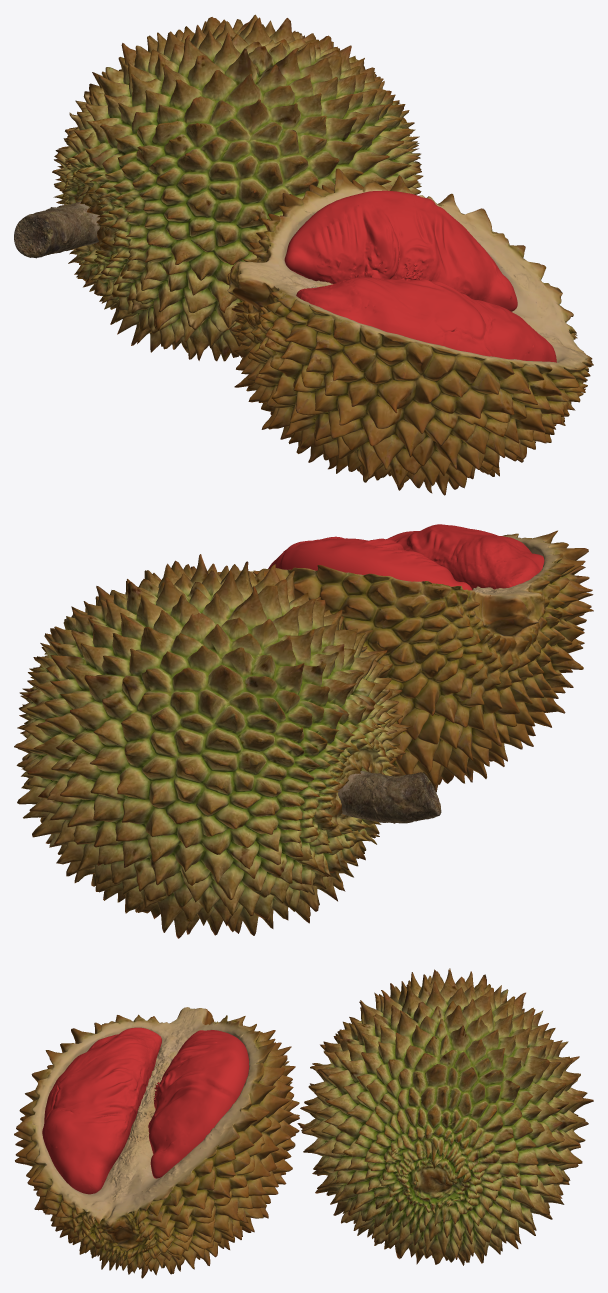
The model's file is durian-compressed.glb.
The picture shows the model from 3 angles, top to bottom: view 1: azimuth 30°, elevation 25°; view 2: azimuth 150°, elevation 25°; view 3: azimuth 270°, elevation 25°; orthographic projection. The views are drawn at different scales.
Visible parts, largest first — view 1: AM130_019_003, AM130_019_001, AM130_019_002, AM130_019_004; view 2: AM130_019_003, AM130_019_001, AM130_019_002, AM130_019_004; view 3: AM130_019_003, AM130_019_001, AM130_019_002.
Part boxes in pixels (left/top/right/bottom): AM130_019_003: left=52, top=14, right=423, bottom=361; AM130_019_001: left=227, top=168, right=593, bottom=495; AM130_019_002: left=284, top=190, right=556, bottom=362; AM130_019_004: left=14, top=201, right=100, bottom=258; AM130_019_003: left=14, top=554, right=412, bottom=938; AM130_019_001: left=217, top=530, right=593, bottom=792; AM130_019_002: left=268, top=524, right=544, bottom=590; AM130_019_004: left=338, top=770, right=441, bottom=823; AM130_019_003: left=297, top=968, right=593, bottom=1265; AM130_019_001: left=14, top=1007, right=299, bottom=1278; AM130_019_002: left=42, top=1027, right=249, bottom=1194.
Size of the model in its own units: 459 by 375 by 728.
Materials: 4 (3 with a texture image).
